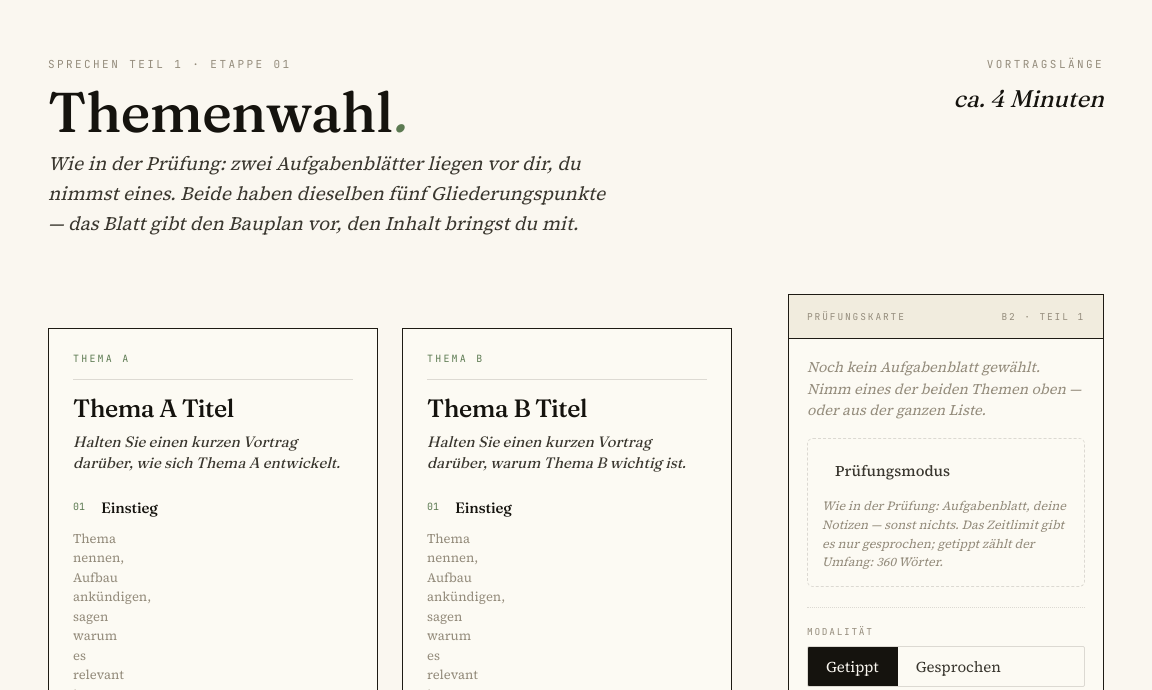
Test case: Teil1Setup — Prüfungsmodus preset › keeps the four-minute exam line for a spoken run
What coordinates should you click on to do the following:
click the button "Gesprochen"
I would click on:
 (958, 667)
Its box is [898,647,1019,686].
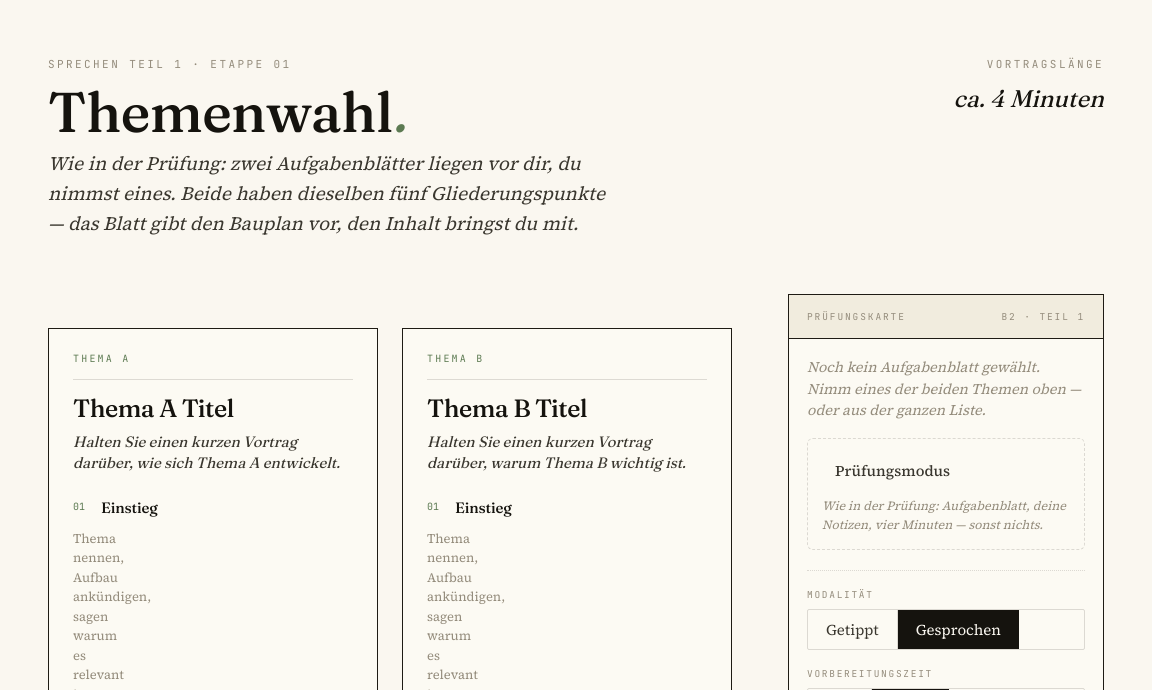
Expected: the text with class "spr-examx-note" reads "Wie in der Prüfung: Aufgabenblatt, deine Notizen, vier Minuten — sonst nichts.", [822,497,1066,533]
Expected: the text with class "spr-examx-note" no longer shows "Das Zeitlimit gibt es nur gesprochen"
